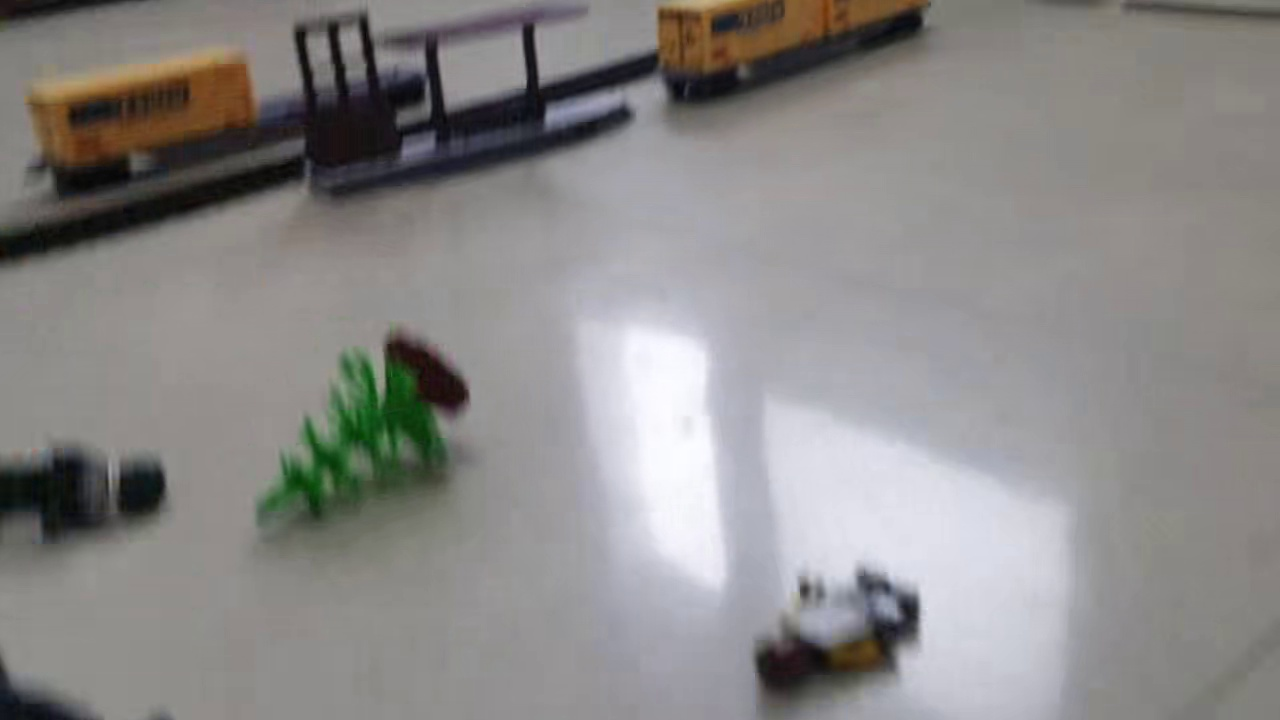people: (751, 561, 930, 704), (1, 431, 171, 557)
tree: (245, 324, 471, 540)
